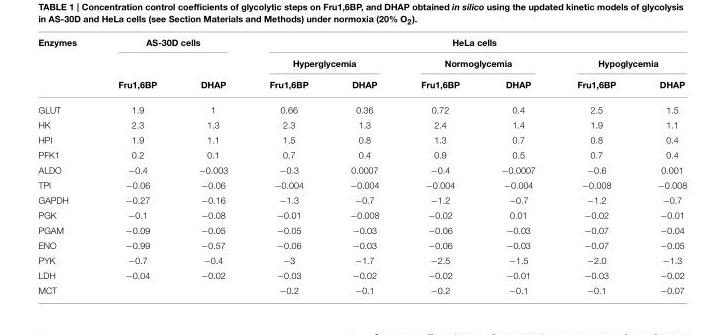table: (37, 37, 686, 295)
table column: (96, 37, 177, 295), (248, 37, 328, 295), (399, 37, 479, 295), (555, 37, 635, 295), (479, 37, 555, 295), (177, 37, 248, 295), (328, 37, 399, 295), (37, 37, 96, 295), (635, 37, 686, 295)
table column header: (37, 37, 686, 96)
table row: (37, 52, 686, 74), (37, 74, 686, 96), (37, 96, 686, 116), (37, 221, 686, 237), (37, 37, 686, 52), (37, 116, 686, 131), (37, 131, 686, 146), (37, 146, 686, 161), (37, 161, 686, 176), (37, 176, 686, 191), (37, 191, 686, 206), (37, 206, 686, 221), (37, 237, 686, 252), (37, 252, 686, 267), (37, 267, 686, 282), (37, 282, 686, 295)
table spanning cell: (248, 37, 686, 52), (96, 52, 177, 96), (37, 37, 96, 96), (399, 52, 555, 74), (248, 52, 399, 74), (177, 52, 248, 96), (555, 52, 686, 74), (96, 37, 248, 52)
